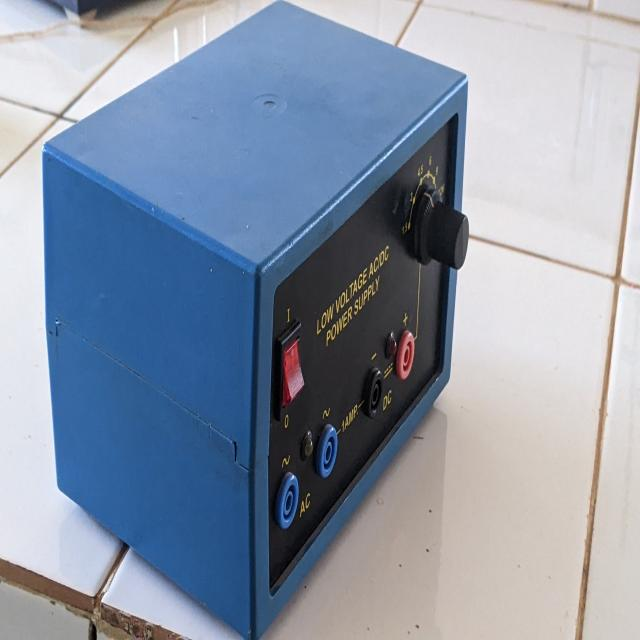Low Voltage AC-DC Power Supply 12 V: (35, 0, 477, 640)
